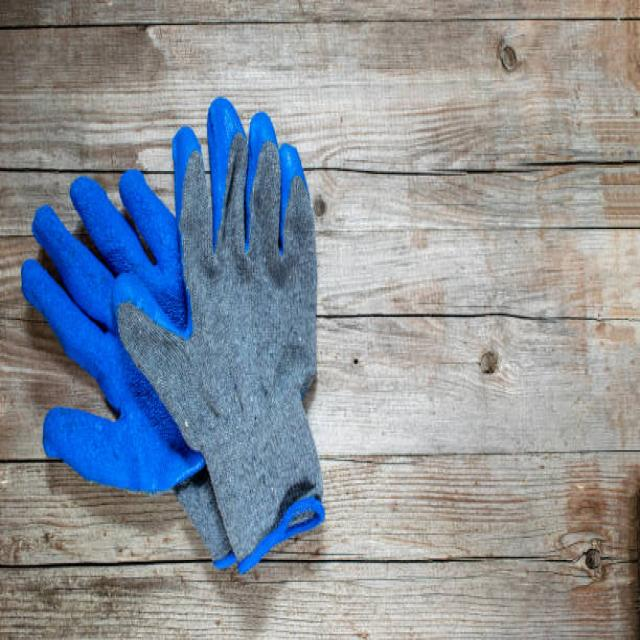Gloves: (16, 158, 285, 568), (108, 95, 331, 586)
